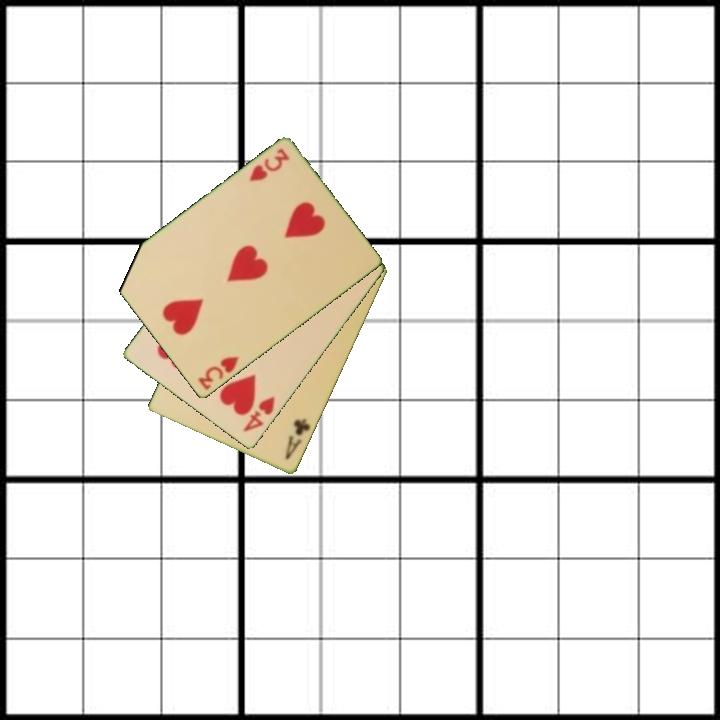3h: (194, 353, 242, 394), (245, 145, 292, 185)
4h: (240, 393, 278, 435)
Ac: (282, 415, 314, 463)
